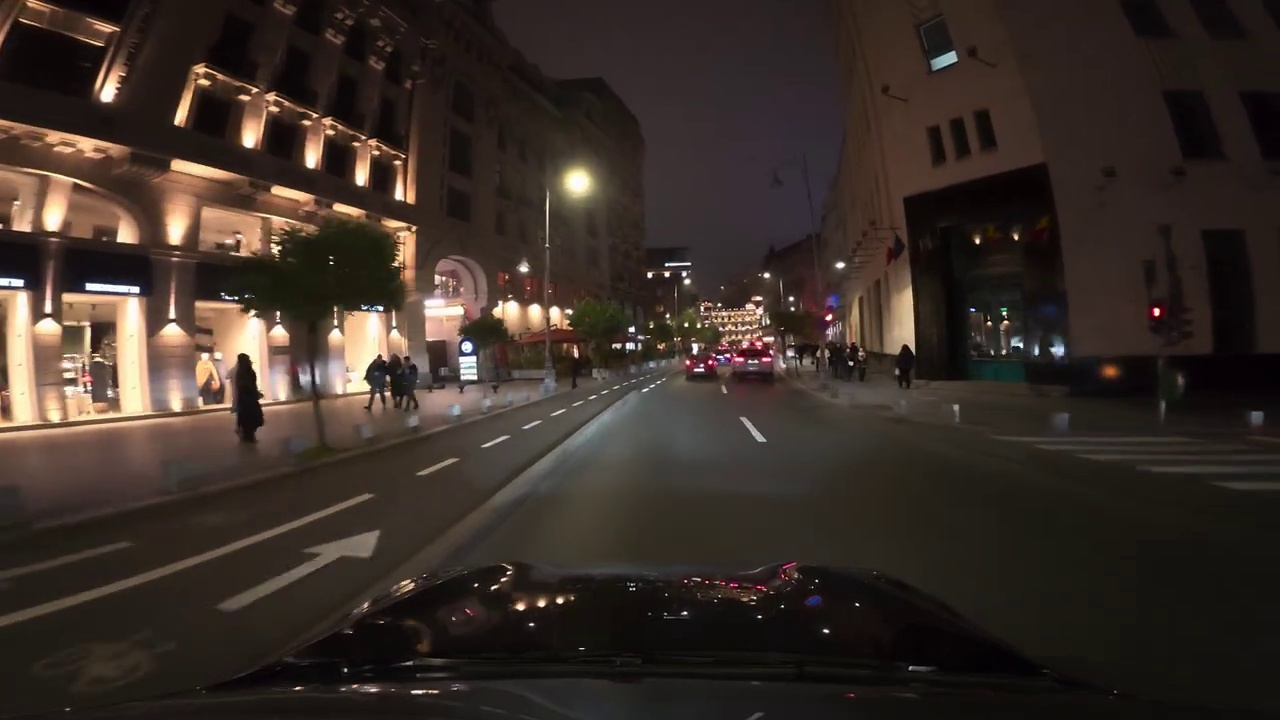acesa: (561, 167, 593, 198)
